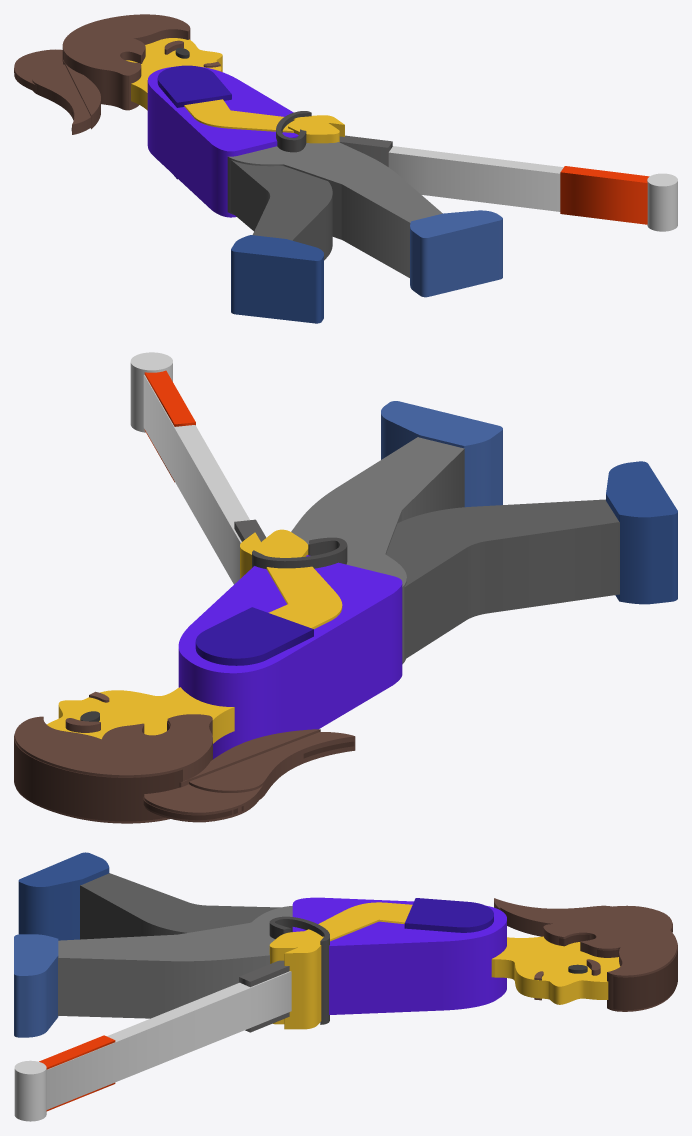
File: emoji_u1f469_200d_1f9af_200d_27a1.glb
3 views of the same model, one above another, from view 1: azimuth 30°, elevation 25°; view 2: azimuth 150°, elevation 25°; view 3: azimuth 270°, elevation 25° (orthographic). The views are drawn at different scales.
Parts seen in each view (by area): view 1: emoji_u1f469_200d_1f9af_200d_27a1; view 2: emoji_u1f469_200d_1f9af_200d_27a1; view 3: emoji_u1f469_200d_1f9af_200d_27a1.
Part boxes in pixels (x1,y1,x2,y2): emoji_u1f469_200d_1f9af_200d_27a1: (14, 14, 677, 323); emoji_u1f469_200d_1f9af_200d_27a1: (14, 352, 677, 823); emoji_u1f469_200d_1f9af_200d_27a1: (14, 852, 677, 1121).
Size of the model in its own units: 0.0251 by 0.0046 by 0.0332.
